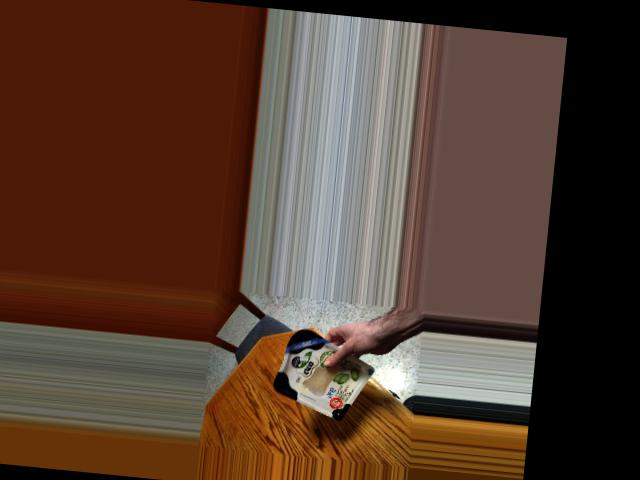cheese: (266, 330, 360, 418)
